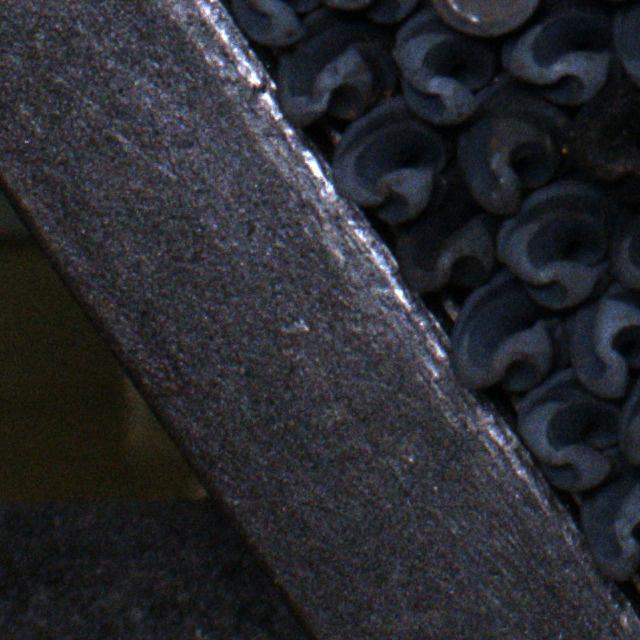tool_b: (495, 177, 627, 306), (332, 96, 454, 223), (449, 268, 572, 393), (456, 93, 568, 216), (517, 366, 625, 489), (275, 22, 396, 127), (501, 0, 622, 104), (391, 6, 495, 126), (395, 185, 499, 291), (569, 82, 640, 202), (569, 280, 640, 398), (578, 471, 640, 582)
